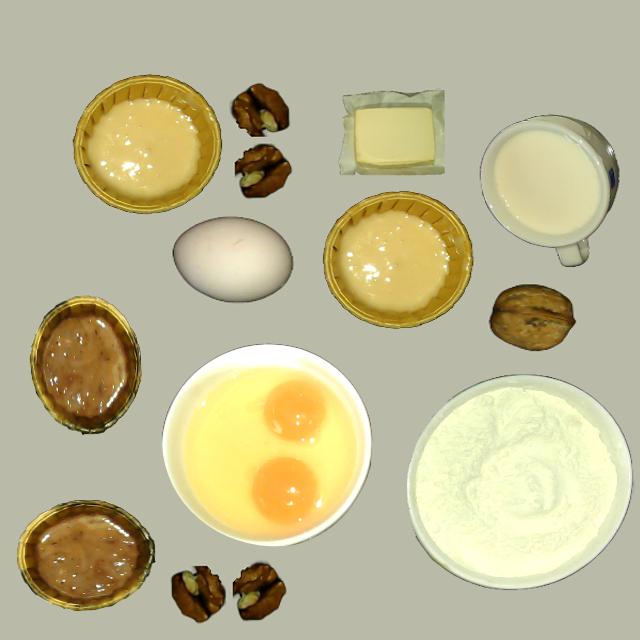Egg: (251, 457, 318, 524), (262, 380, 328, 442)
Flour: (406, 375, 632, 590)
Milk: (491, 130, 600, 238)
Walnut: (488, 286, 576, 351)
